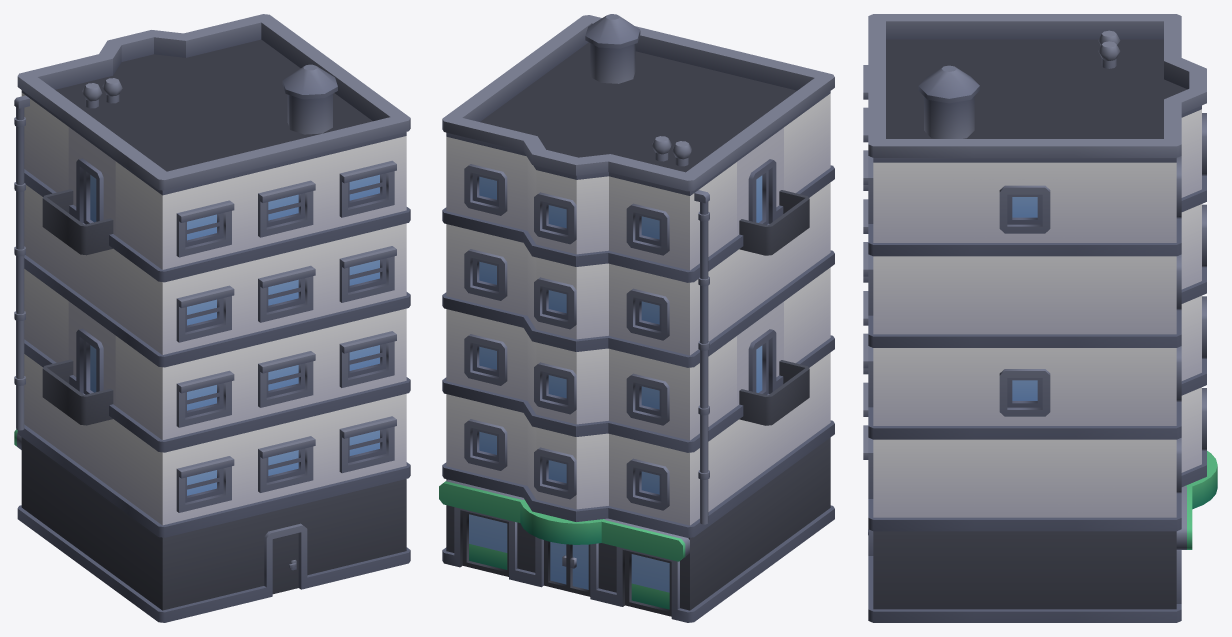
The model's file is city_11.fbx.
3 renders of one model, left to right at view 1: azimuth 30°, elevation 25°; view 2: azimuth 150°, elevation 25°; view 3: azimuth 270°, elevation 25°, orthographic. The views are drawn at different scales.
Visible parts, largest first — view 1: city_11; view 2: city_11; view 3: city_11.
Part boxes in pixels (bbox=[...]): city_11: bbox=[14, 14, 410, 622]; city_11: bbox=[439, 14, 834, 622]; city_11: bbox=[863, 14, 1217, 622].
Size of the model in its own units: 1.37 by 2.27 by 1.4.
Materials: 1 (1 with a texture image).
